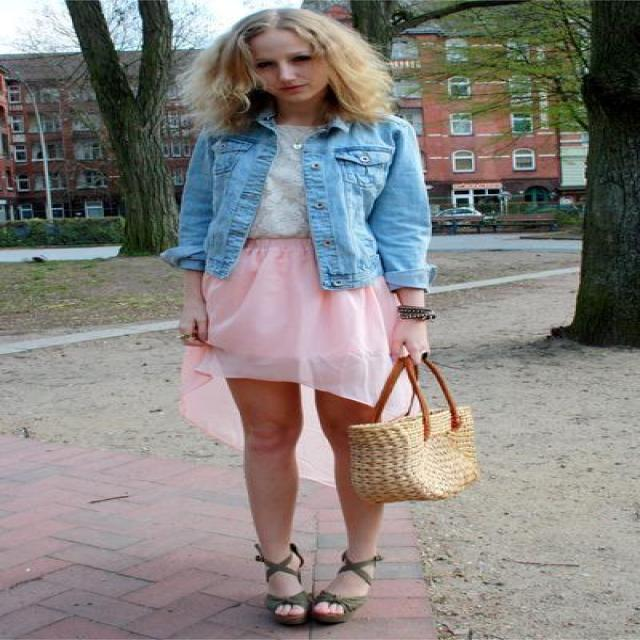bag: (365, 353, 478, 508)
jacket: (173, 113, 443, 298)
shirt: (254, 122, 324, 235)
shoe: (250, 544, 370, 633)
skirt: (179, 218, 421, 485)
